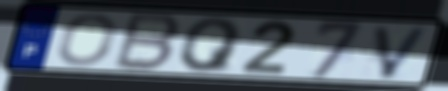2: (238, 19, 301, 76)
7: (312, 19, 368, 81)
B: (110, 11, 186, 74)
O: (54, 12, 120, 68)
Q: (178, 17, 246, 74)
V: (371, 24, 434, 81)
